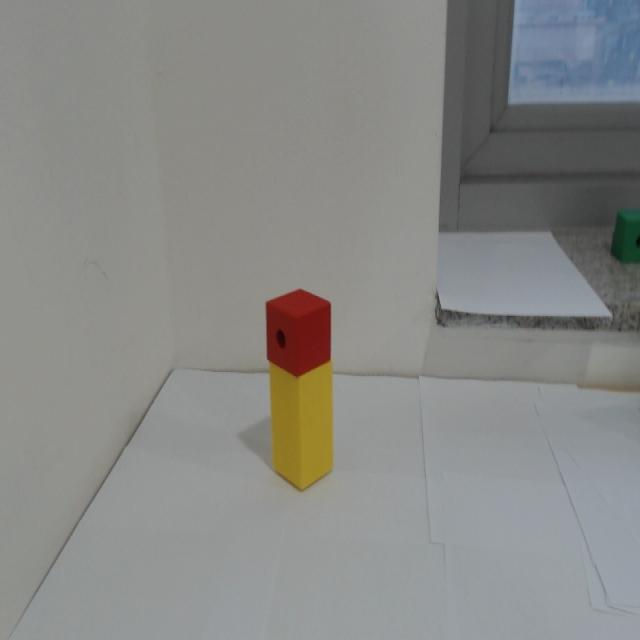cube: (261, 287, 336, 378)
